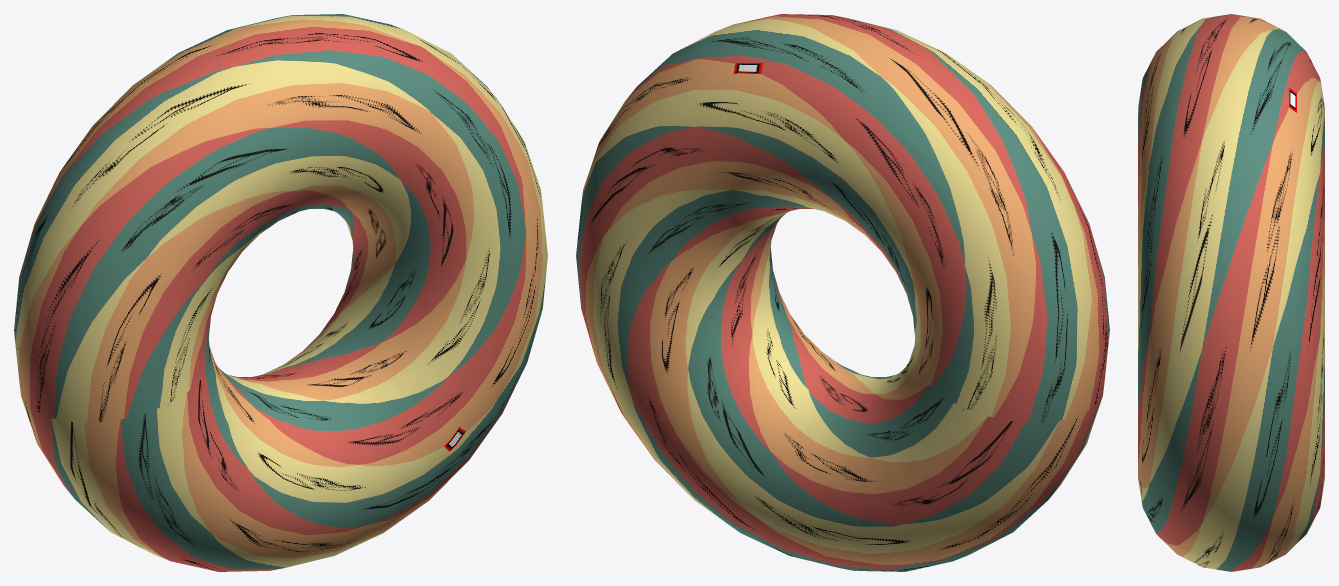
The model's file is uv_checkerboard_res_1024_iter_383_cat_map.glb.
3 renders of one model, left to right at view 1: azimuth 30°, elevation 25°; view 2: azimuth 150°, elevation 25°; view 3: azimuth 270°, elevation 25°, orthographic. The views are drawn at different scales.
Visible parts, largest first — view 1: Node; view 2: Node; view 3: Node.
Part boxes in pixels (x1,y1,x2,y2): Node: (14, 14, 547, 571); Node: (576, 14, 1109, 571); Node: (1138, 14, 1324, 571).
Size of the model in its own units: 3 by 2.98 by 1.
1 material, 1 textured.
